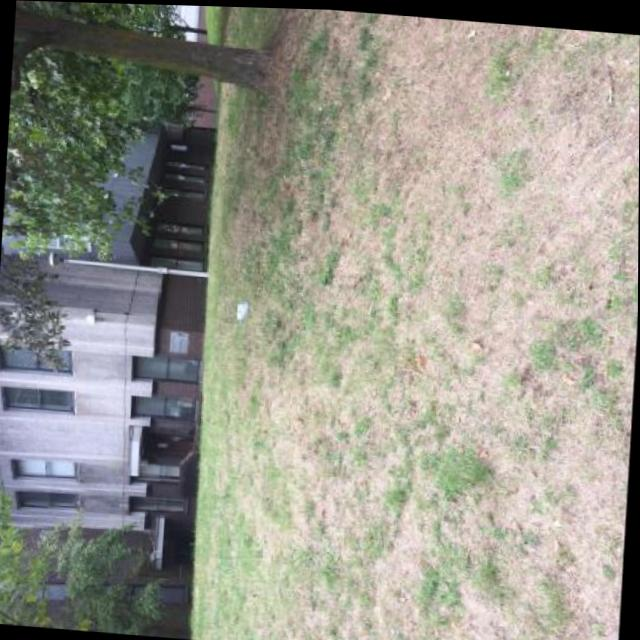plastic: (237, 301, 251, 324)
